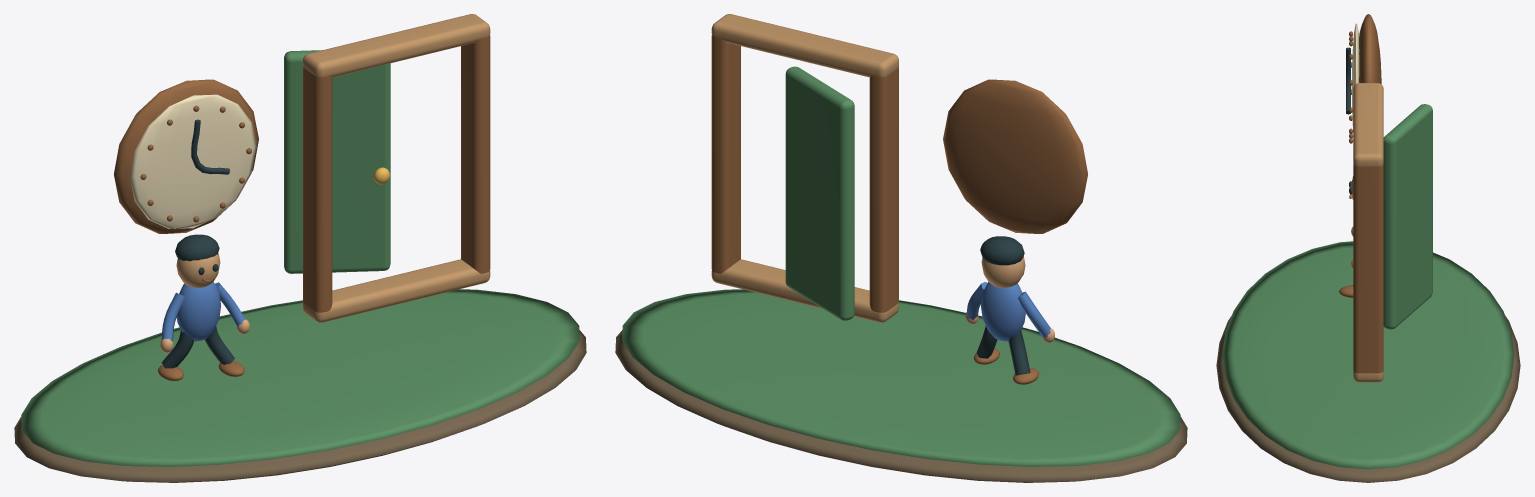
The model's file is late-arrival.glb.
3 views of the same model, side by side, from view 1: azimuth 30°, elevation 25°; view 2: azimuth 150°, elevation 25°; view 3: azimuth 270°, elevation 25° (orthographic). The views are drawn at different scales.
Parts seen in each view (by area): view 1: late-arrival_surface_01, late-arrival_surface_02, late-arrival_surface_03, late-arrival_surface_00, late-arrival_surface_05, late-arrival_surface_08, late-arrival_surface_04, late-arrival_surface_07; view 2: late-arrival_surface_01, late-arrival_surface_02, late-arrival_surface_00, late-arrival_surface_05, late-arrival_surface_08, late-arrival_surface_04, late-arrival_surface_07; view 3: late-arrival_surface_01, late-arrival_surface_02, late-arrival_surface_00, late-arrival_surface_05, late-arrival_surface_03, late-arrival_surface_04.
Part boxes in pixels (x1=…): late-arrival_surface_01: x1=21, y1=50, x2=579, y2=466; late-arrival_surface_02: x1=114, y1=35, x2=490, y2=381; late-arrival_surface_03: x1=130, y1=94, x2=256, y2=228; late-arrival_surface_00: x1=14, y1=330, x2=586, y2=482; late-arrival_surface_05: x1=303, y1=14, x2=490, y2=322; late-arrival_surface_08: x1=161, y1=282, x2=245, y2=341; late-arrival_surface_04: x1=161, y1=119, x2=234, y2=368; late-arrival_surface_07: x1=160, y1=253, x2=249, y2=352; late-arrival_surface_01: x1=622, y1=66, x2=1180, y2=466; late-arrival_surface_02: x1=711, y1=35, x2=1087, y2=384; late-arrival_surface_00: x1=615, y1=330, x2=1187, y2=482; late-arrival_surface_05: x1=711, y1=14, x2=898, y2=322; late-arrival_surface_08: x1=966, y1=282, x2=1050, y2=341; late-arrival_surface_04: x1=976, y1=236, x2=1030, y2=375; late-arrival_surface_07: x1=965, y1=256, x2=1054, y2=342; late-arrival_surface_01: x1=1222, y1=104, x2=1514, y2=469; late-arrival_surface_02: x1=1339, y1=14, x2=1383, y2=373; late-arrival_surface_00: x1=1216, y1=316, x2=1520, y2=482; late-arrival_surface_05: x1=1353, y1=83, x2=1383, y2=382; late-arrival_surface_03: x1=1351, y1=23, x2=1359, y2=130; late-arrival_surface_04: x1=1346, y1=47, x2=1353, y2=285.
Size of the model in its own units: 4.56 by 2.82 by 2.5.
